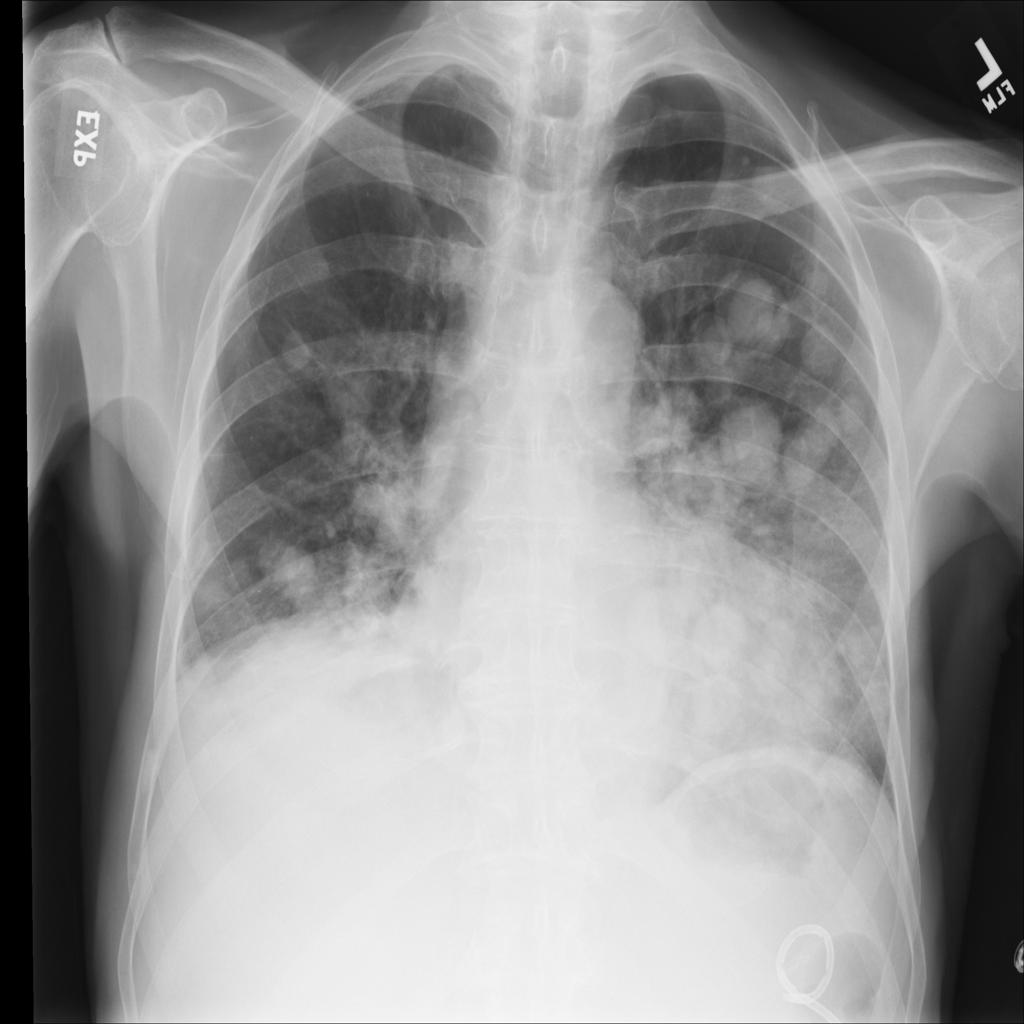nodule: (711, 394, 787, 486), (716, 269, 790, 349), (688, 590, 755, 676), (259, 535, 330, 615), (682, 669, 751, 751), (772, 427, 839, 500), (267, 312, 330, 386), (684, 309, 746, 384), (792, 310, 854, 385), (816, 380, 879, 452), (790, 248, 841, 302)
